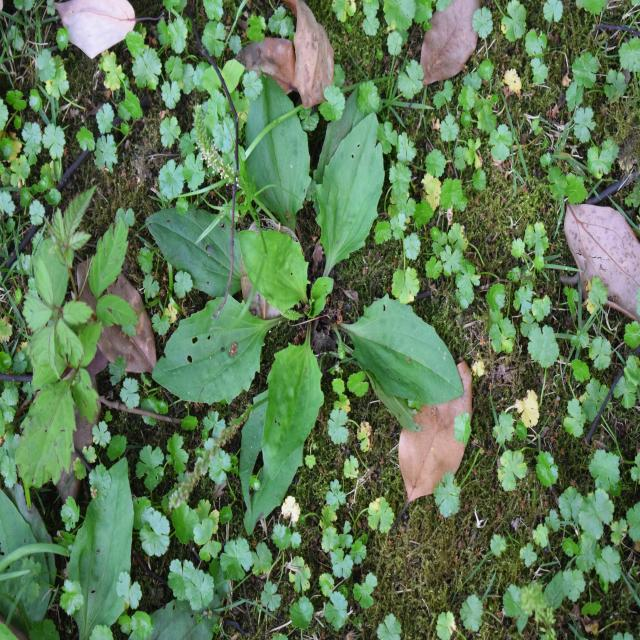plantain: (149, 97, 458, 461)
